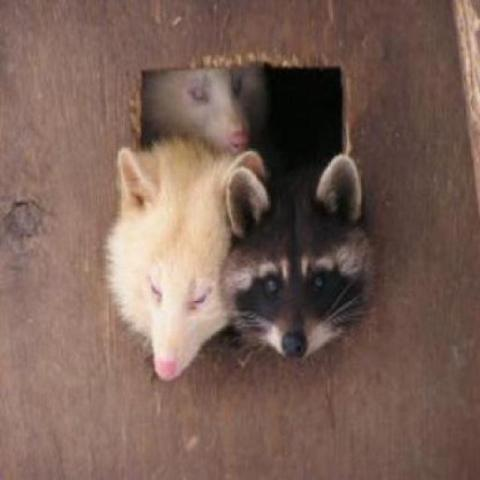small_animal: (110, 136, 271, 381), (217, 155, 372, 362), (140, 62, 270, 156)
